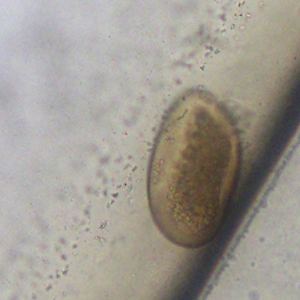Fasciola_hepatica_egg: (145, 88, 243, 251)
